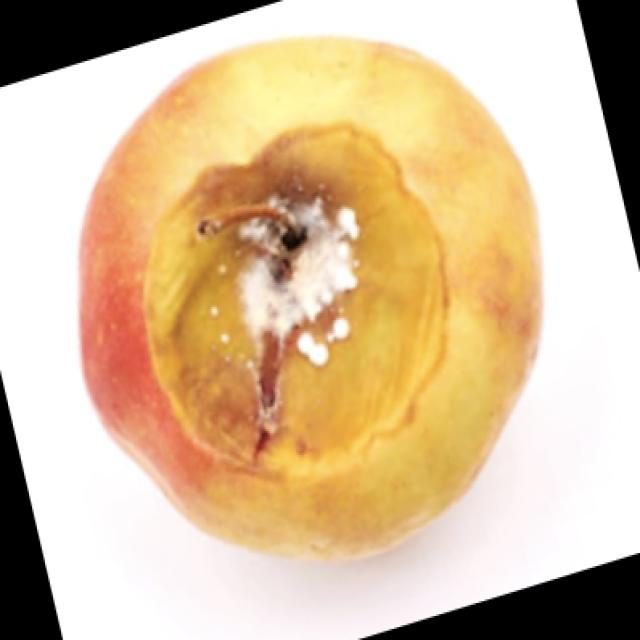organik: (78, 9, 546, 561)
